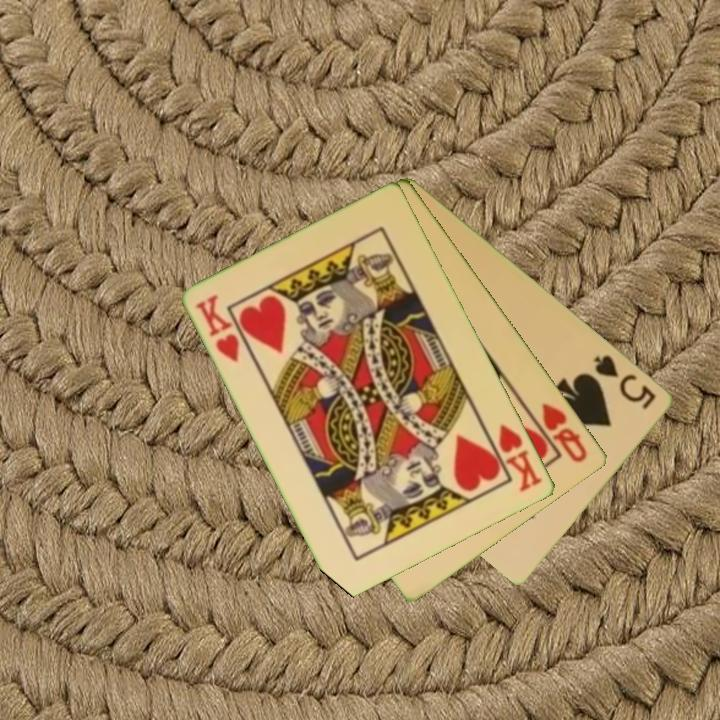5s: (590, 351, 660, 413)
Kh: (482, 421, 546, 495), (192, 291, 243, 365)
Qh: (539, 399, 591, 466)
